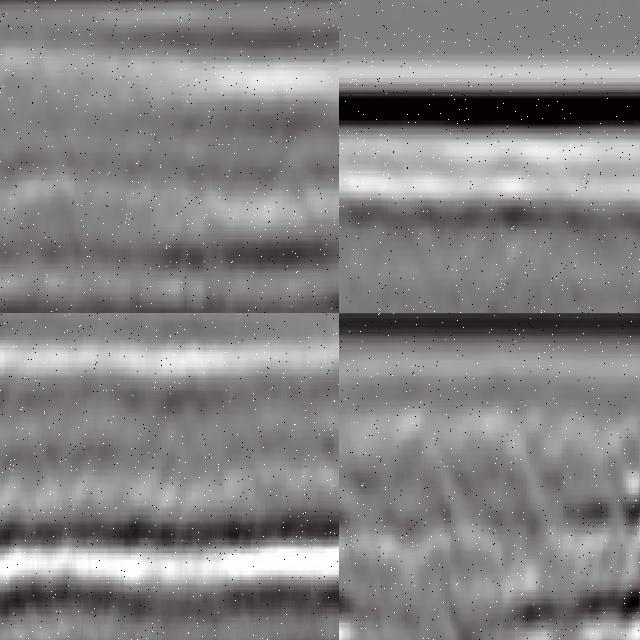loose: (499, 443, 640, 640), (340, 524, 424, 640)
